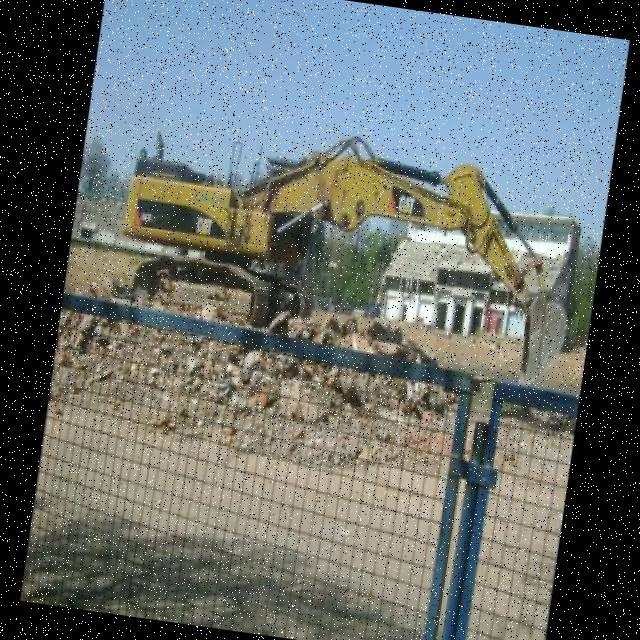Excavator: (98, 91, 590, 389)
